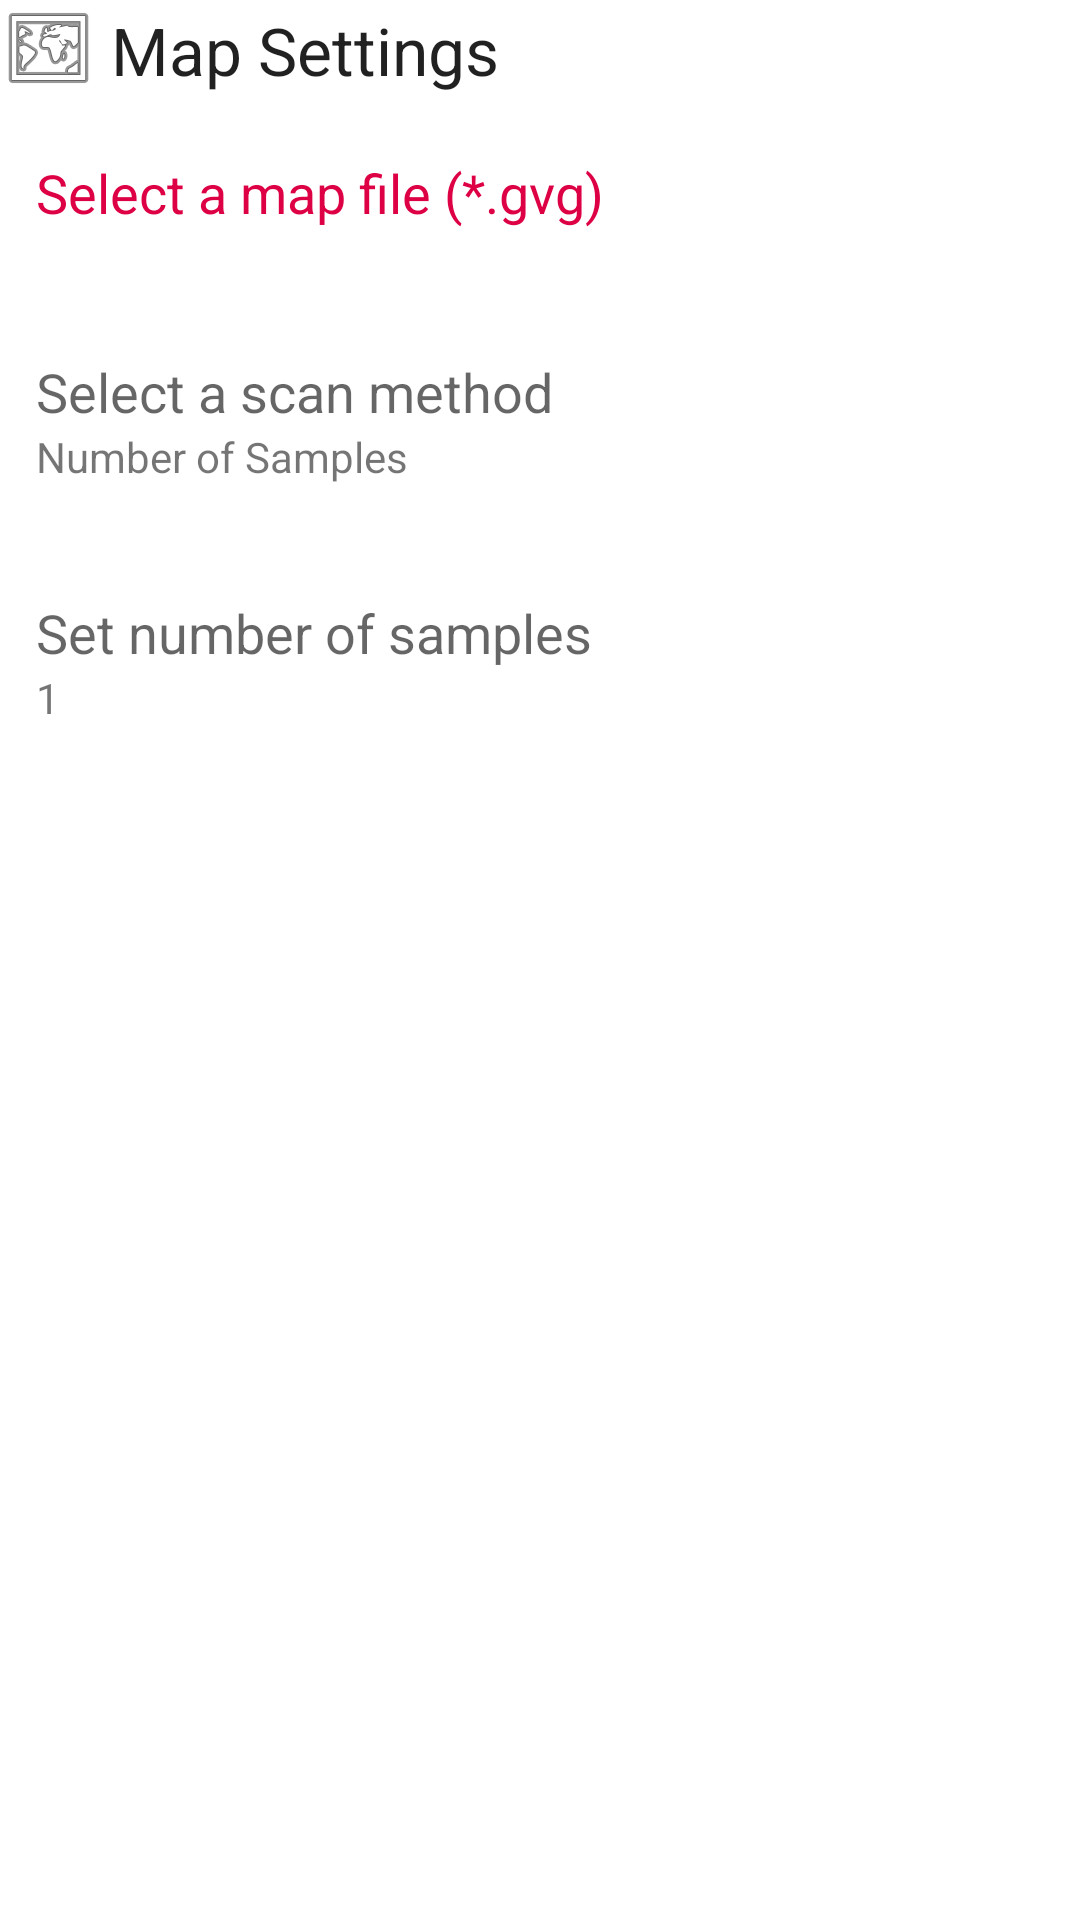

Locate icon controls on the screen. Image size 1080x1920, boxes as (x1, y1, x2, y2).
mapmode: (8, 13, 89, 83)
